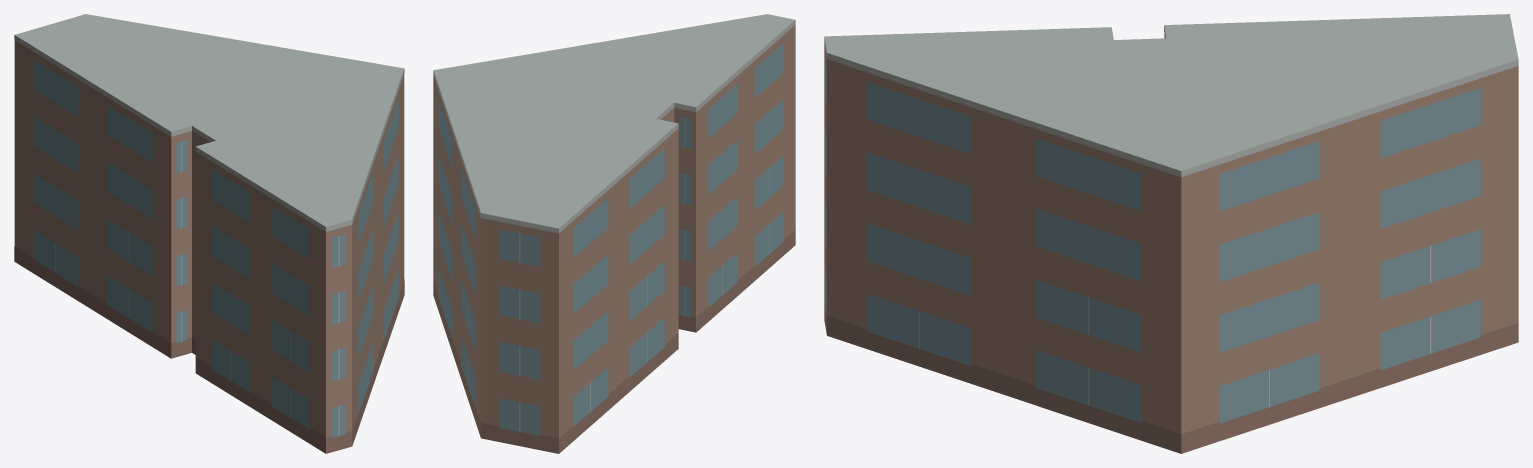
File: survey-upis-32497376.glb
The picture shows the model from 3 angles, left to right: view 1: azimuth 30°, elevation 25°; view 2: azimuth 150°, elevation 25°; view 3: azimuth 270°, elevation 25°; orthographic projection. The views are drawn at different scales.
Visible parts, largest first — view 1: survey-upis-32497376.tmp; view 2: survey-upis-32497376.tmp; view 3: survey-upis-32497376.tmp.
Boxes of the visible parts, left/top/right/bottom form: survey-upis-32497376.tmp: left=14, top=14, right=404, bottom=453; survey-upis-32497376.tmp: left=433, top=14, right=795, bottom=453; survey-upis-32497376.tmp: left=824, top=14, right=1518, bottom=453.
Bounding box in the file's own units: 13.35 × 11.2 × 24.93.
